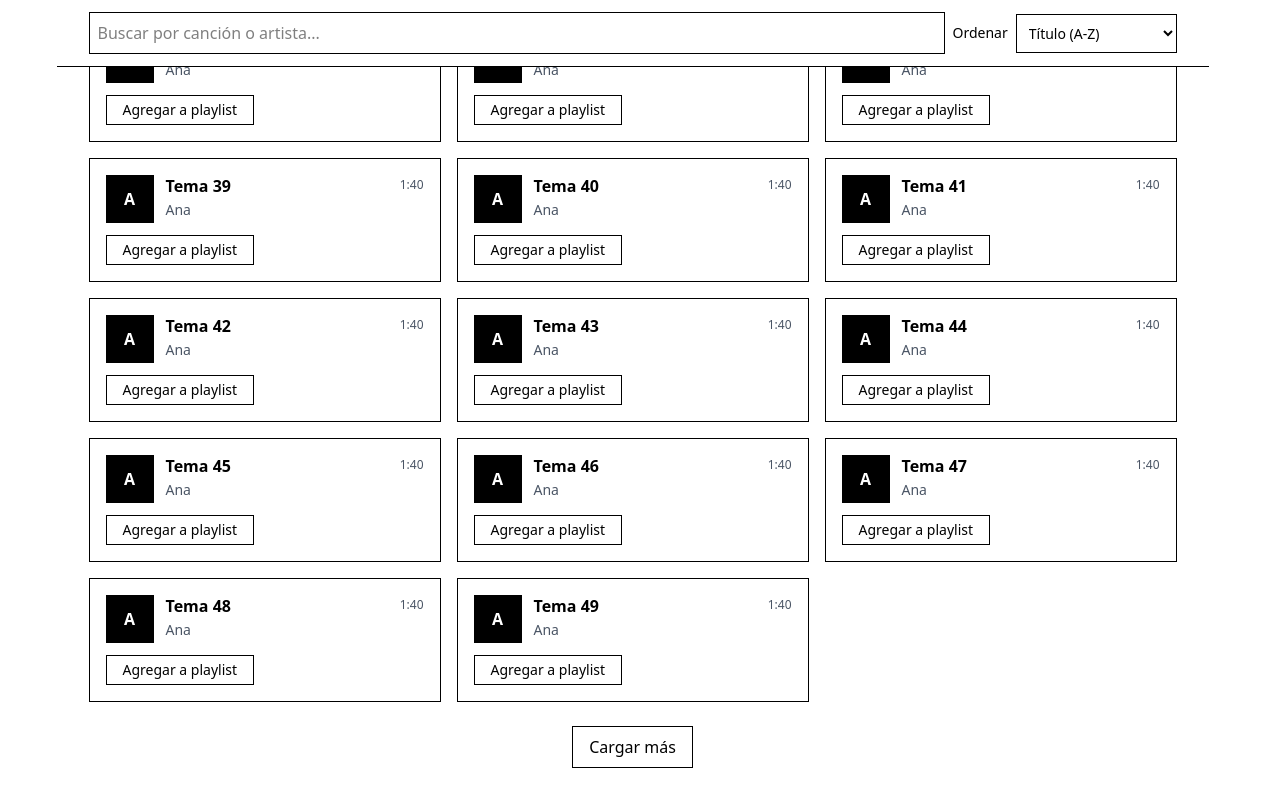
Scenario: Catalog › carga más páginas con offset hasta llegar al total
(page scrolled)
Click the button "Cargar más".
click(632, 747)  # box [572,726,693,768]
(page scrolled)
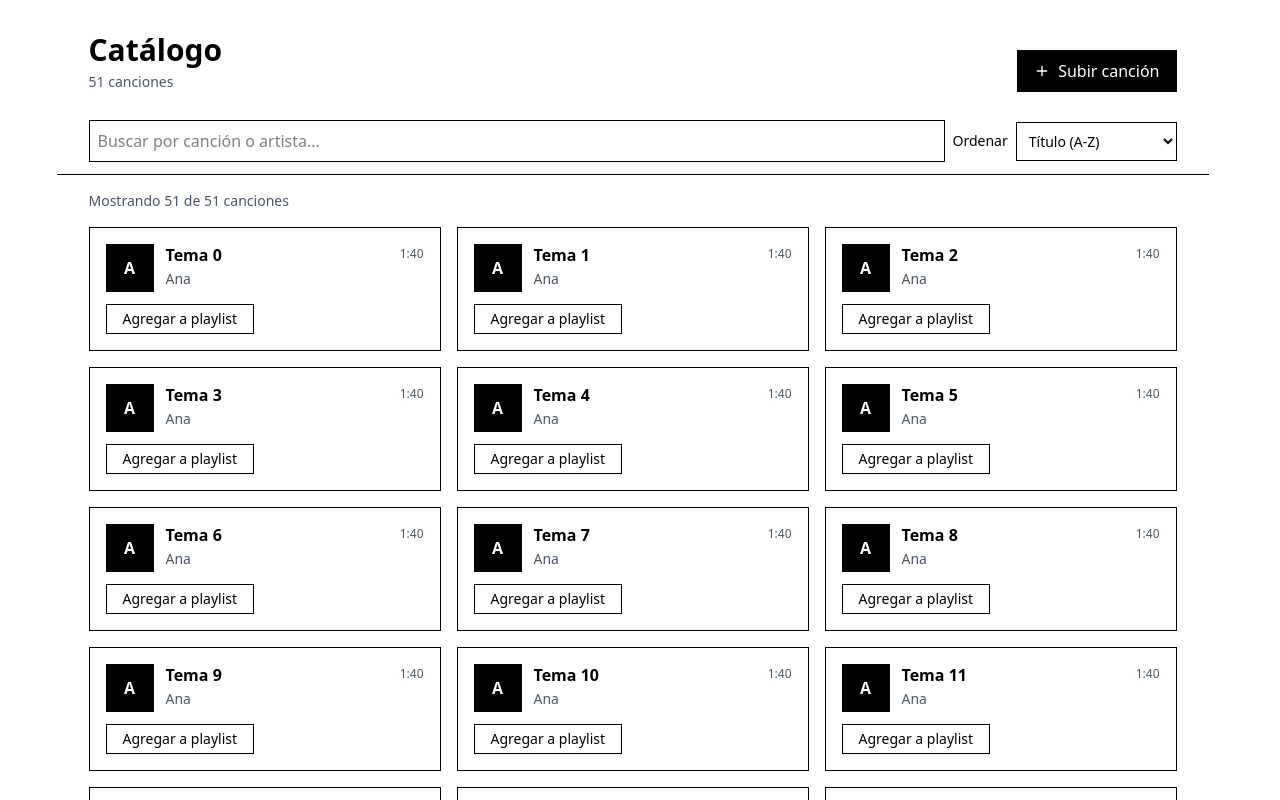
Now the text "Mostrando 51 de 51 canciones" is shown, box [88,191,289,210]
Now the button "Cargar más" is gone
